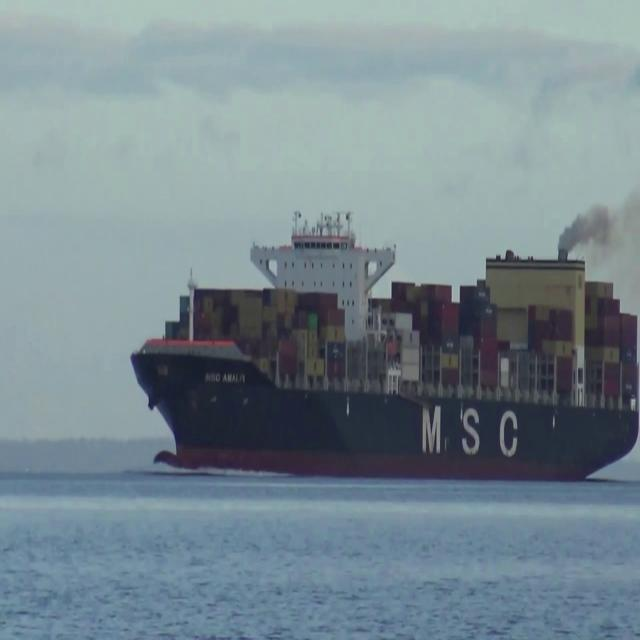OCR: (201, 361, 249, 391)
